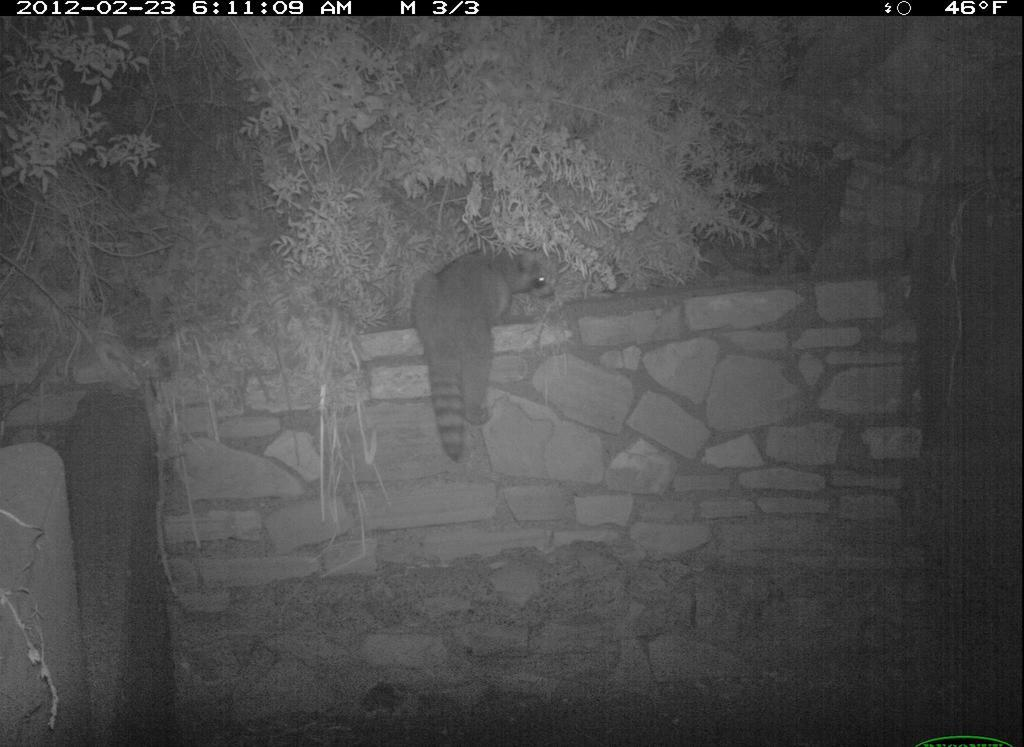raccoon: (399, 235, 570, 468)
